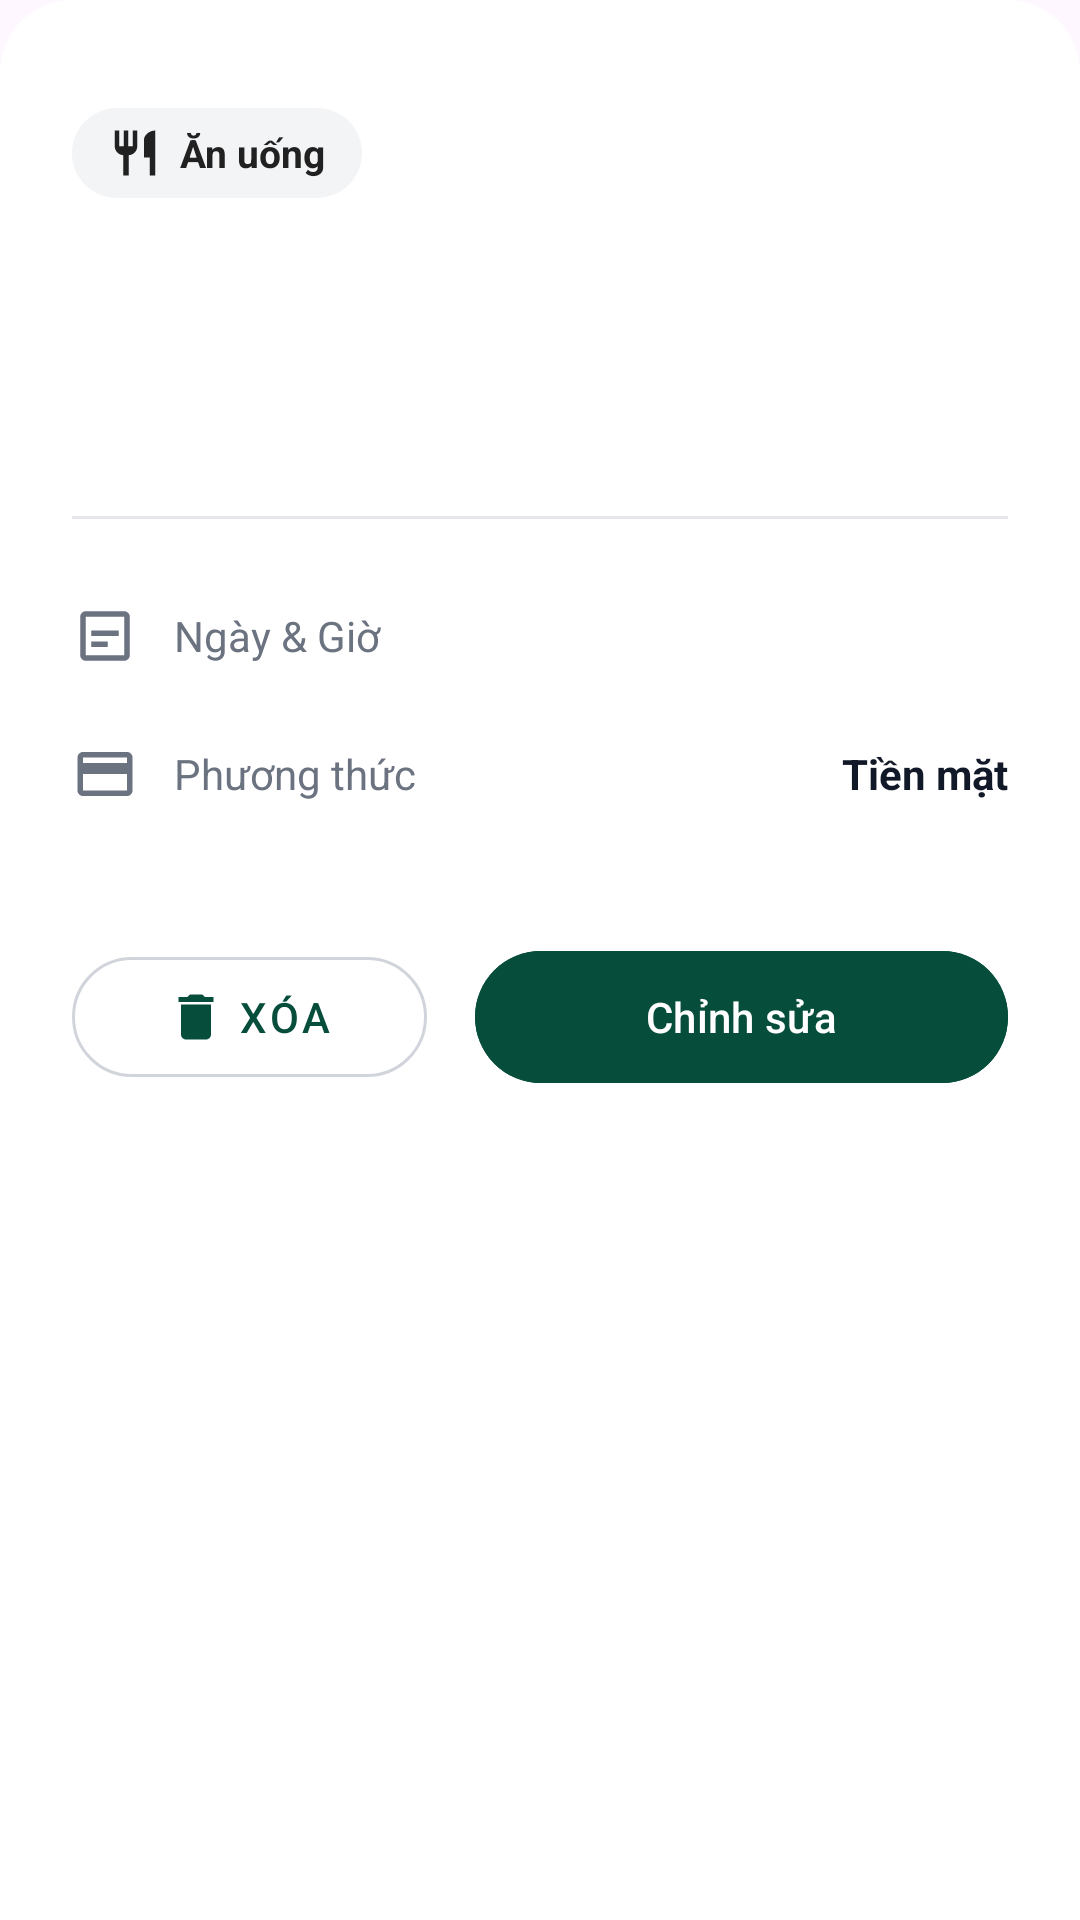

Where to tap for icons on this 1080*1920 app screen, as (x=x, y=y):
Thanh toán: (x=105, y=774)
